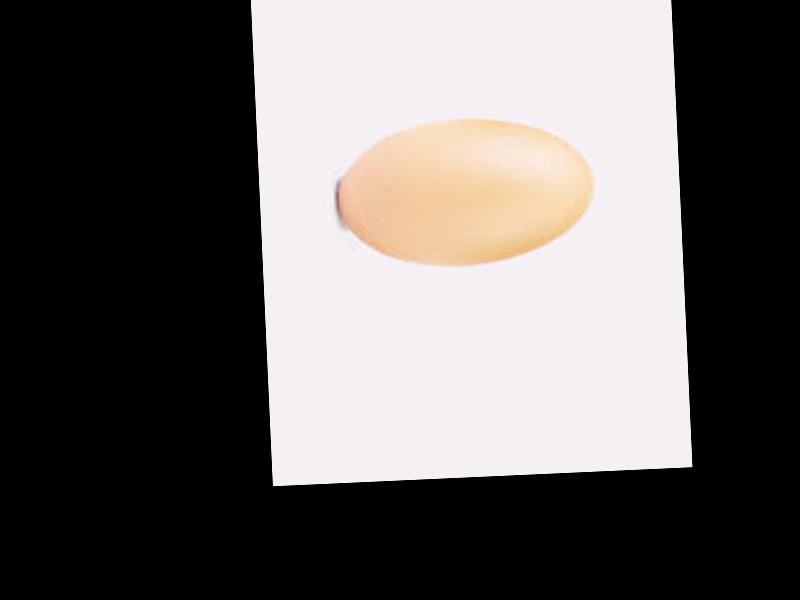Eggs: (332, 115, 601, 270)
